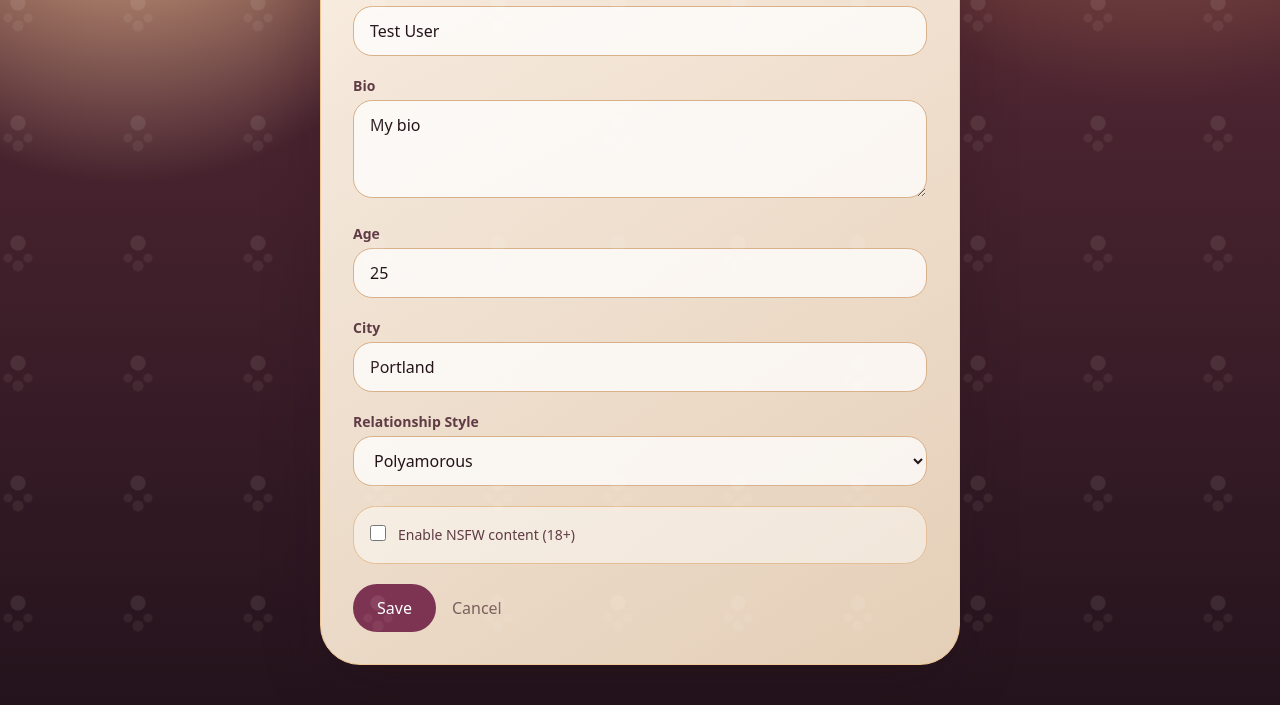
Test: ProfileEditPage › shows success message after successful save
(page scrolled)
What coordinates should you click on to do the following:
click the button "Save"
I would click on:
 (394, 608)
Its box is [353, 584, 436, 632].
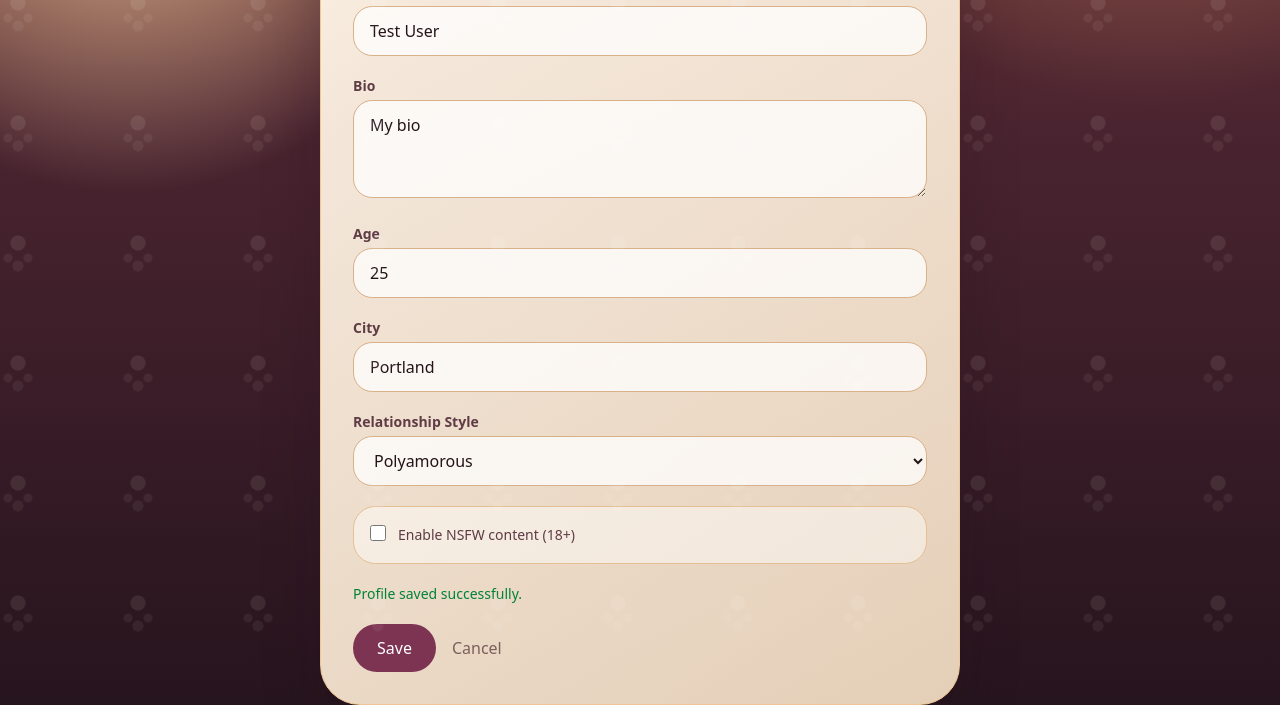
expect the text "Profile saved successfully." is shown: met, box [353, 584, 522, 603]
